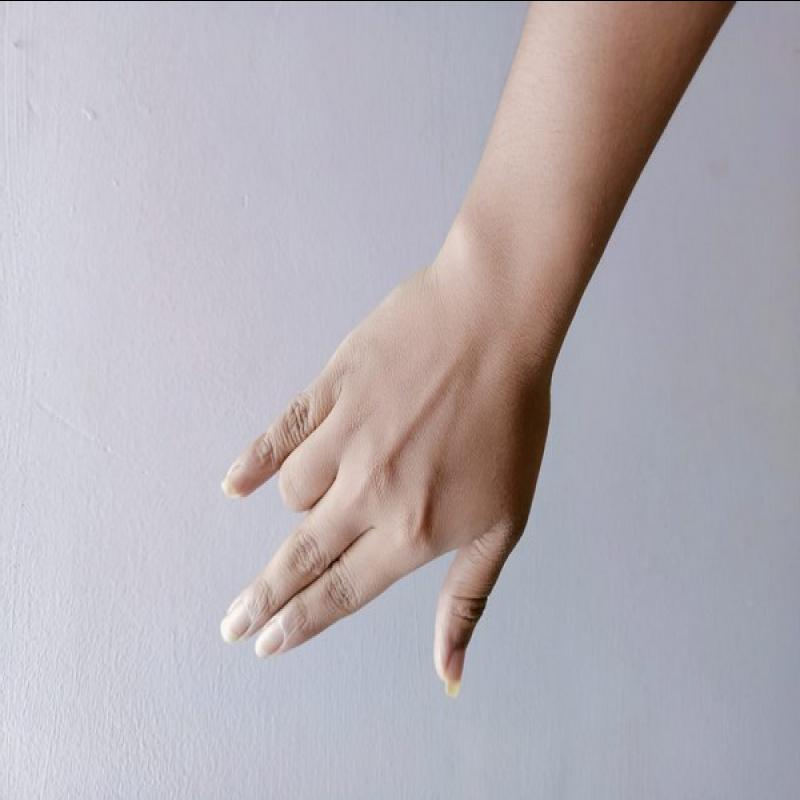Pathaaka: (187, 280, 572, 700)
